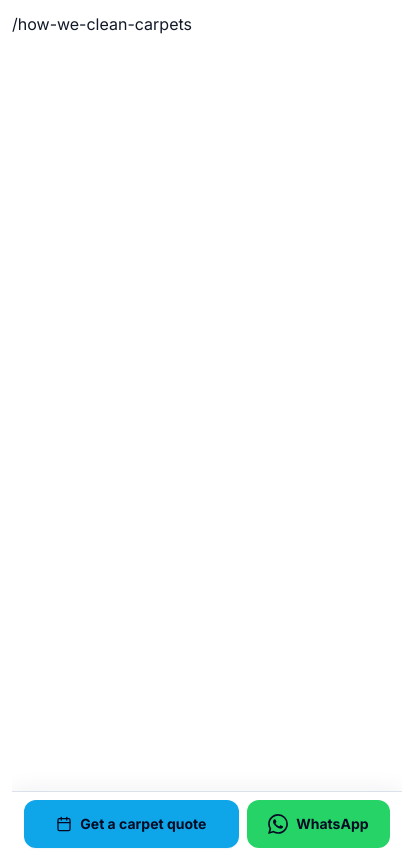
Test: contextual primary actions › takes process-page visitors to the service calculator instead of validating the current page
Step 1. Click the link "Get a carpet quote" → (131, 824), box [24,800,239,848]
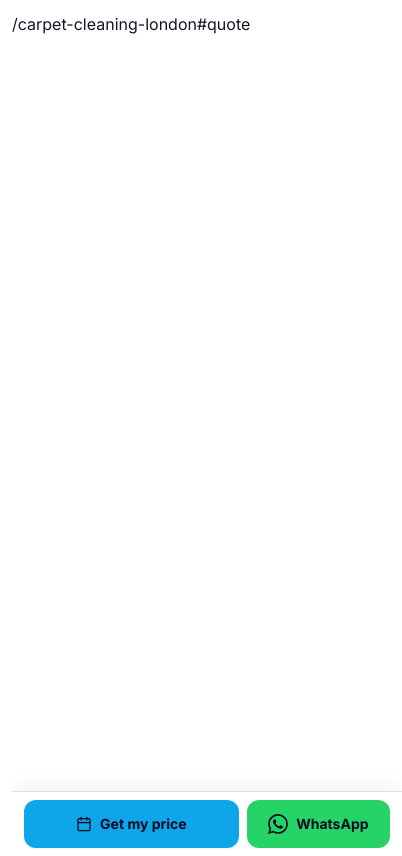
Expected: the text with test id "current-route" reads "/carpet-cleaning-london#quote", [12,14,250,34]
